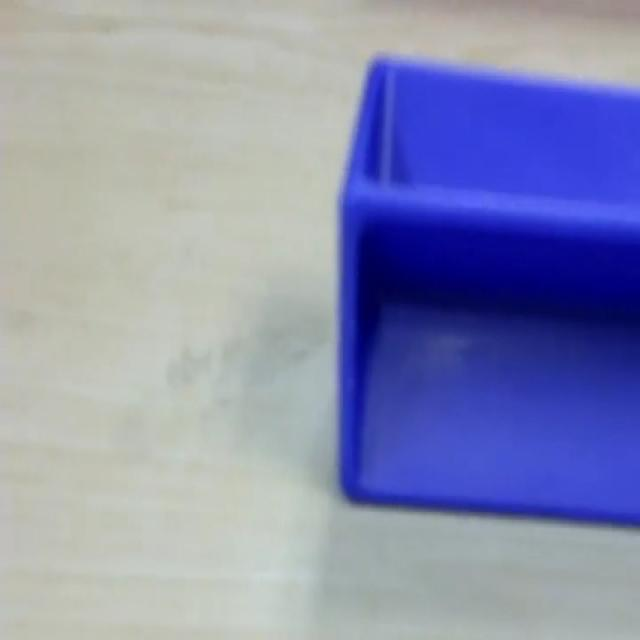blue_block: (336, 49, 638, 526)
